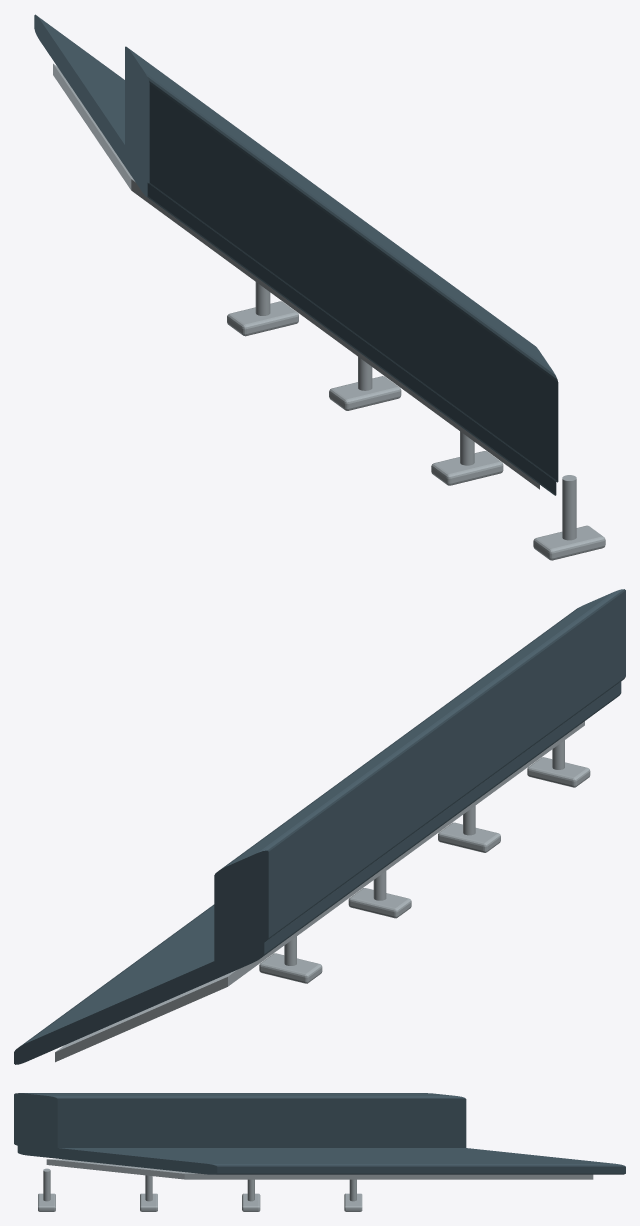
The model's file is cabin_bench_length_450cm.glb.
3 renders of one model, top to bottom at view 1: azimuth 30°, elevation 25°; view 2: azimuth 150°, elevation 25°; view 3: azimuth 270°, elevation 25°, orthographic. The views are drawn at different scales.
Parts seen in each view (by area): view 1: Bench upright back.008, Bench seat cushion.008, Bench support beam.008, Bench foot.019, Bench foot.021, Bench foot.020, Bench foot.022, Bench pedestal.019; view 2: Bench upright back.008, Bench seat cushion.008, Bench support beam.008, Bench foot.021, Bench foot.019, Bench foot.022, Bench foot.020; view 3: Bench upright back.008, Bench seat cushion.008, Bench support beam.008, Bench foot.022, Bench foot.021, Bench foot.019, Bench foot.020, Bench pedestal.019, Bench pedestal.020.
Part boxes in pixels (x1,y1,x2,y2): Bench upright back.008: [125, 46, 558, 482]; Bench seat cushion.008: [34, 14, 556, 495]; Bench support beam.008: [53, 63, 539, 489]; Bench foot.019: [533, 525, 605, 560]; Bench foot.021: [329, 376, 401, 410]; Bench foot.020: [431, 451, 503, 485]; Bench foot.022: [227, 301, 298, 336]; Bench pedestal.019: [562, 475, 576, 540]; Bench upright back.008: [214, 589, 625, 962]; Bench seat cushion.008: [14, 682, 621, 1064]; Bench support beam.008: [55, 721, 584, 1062]; Bench foot.021: [348, 888, 411, 918]; Bench foot.019: [527, 757, 590, 787]; Bench foot.022: [259, 953, 322, 983]; Bench foot.020: [438, 822, 500, 852]; Bench upright back.008: [14, 1093, 466, 1149]; Bench seat cushion.008: [17, 1144, 625, 1174]; Bench support beam.008: [46, 1159, 593, 1179]; Bench foot.022: [344, 1193, 362, 1211]; Bench foot.021: [242, 1193, 260, 1211]; Bench foot.019: [38, 1193, 55, 1211]; Bench foot.020: [140, 1193, 157, 1211]; Bench pedestal.019: [43, 1168, 50, 1201]; Bench pedestal.020: [145, 1175, 152, 1201].
Bounding box in the file's own units: 0.56 × 1.25 × 6.74.
